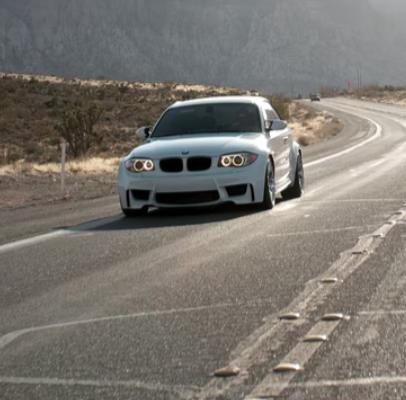car: (107, 75, 328, 228)
